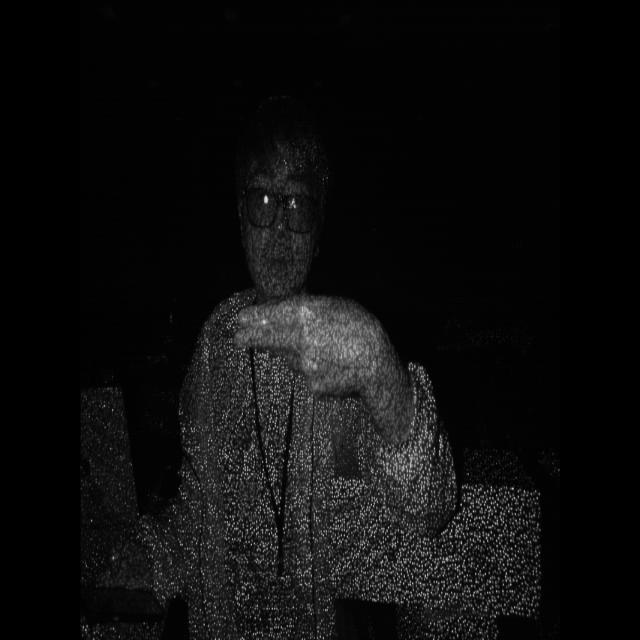H: (230, 281, 404, 408)
